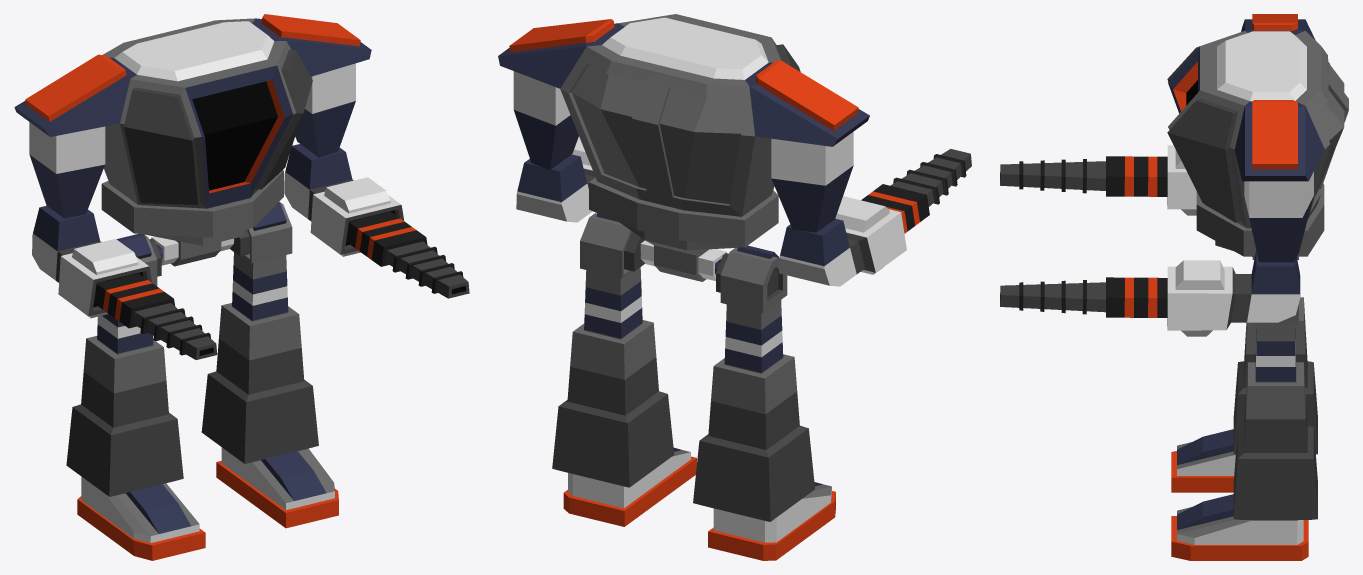
Rendered from MECHA.fbx.
3 views of the same model, side by side, from view 1: azimuth 30°, elevation 25°; view 2: azimuth 150°, elevation 25°; view 3: azimuth 270°, elevation 25° (orthographic). The views are drawn at different scales.
Parts seen in each view (by area): view 1: Cube.015, Cube.017, Cube.004, Cube.016, Cube.019, Cube.003, Cube.018, Cube.002; view 2: Cube.015, Cube.017, Cube.004, Cube.019, Cube.018, Cube.003, Cube.016, Cube.002; view 3: Cube.015, Cube.004, Cube.016, Cube.019, Cube.017, Cube.003.
Part boxes in pixels (left/top/right/bottom): Cube.015: left=14, top=14, right=371, bottom=237; Cube.017: left=66, top=336, right=205, bottom=560; Cube.004: left=201, top=303, right=338, bottom=528; Cube.016: left=284, top=144, right=469, bottom=298; Cube.019: left=32, top=205, right=217, bottom=359; Cube.003: left=229, top=201, right=292, bottom=321; Cube.018: left=97, top=234, right=162, bottom=354; Cube.002: left=142, top=229, right=247, bottom=266; Cube.015: left=498, top=14, right=869, bottom=247; Cube.017: left=693, top=354, right=835, bottom=560; Cube.004: left=552, top=320, right=696, bottom=526; Cube.019: left=779, top=149, right=971, bottom=286; Cube.018: left=715, top=245, right=787, bottom=373; Cube.003: left=580, top=213, right=644, bottom=339; Cube.016: left=516, top=136, right=595, bottom=222; Cube.002: left=621, top=223, right=739, bottom=281; Cube.015: left=1167, top=14, right=1348, bottom=262; Cube.004: left=1171, top=362, right=1317, bottom=560; Cube.016: left=1000, top=250, right=1300, bottom=336; Cube.019: left=1000, top=145, right=1196, bottom=215; Cube.017: left=1171, top=297, right=1317, bottom=492; Cube.003: left=1252, top=304, right=1298, bottom=382.
Bounding box in the file's own units: 658 × 881 × 619.
